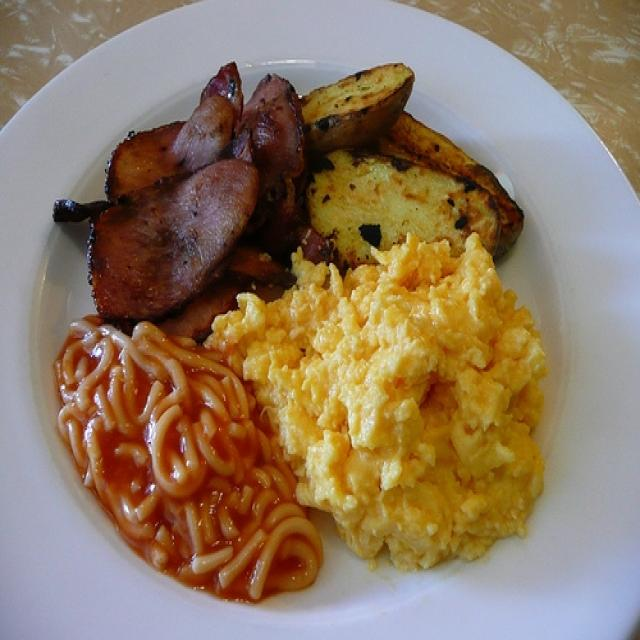鸡蛋料理: (247, 237, 541, 560)
